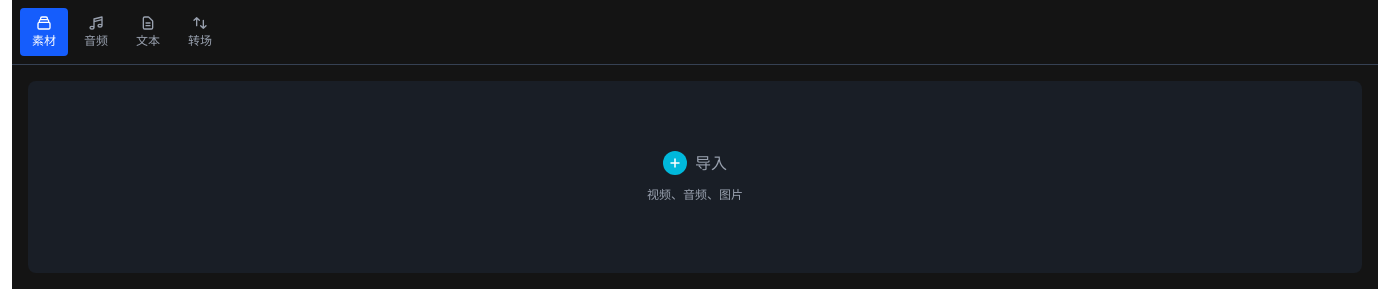
Scenario: MediaLibrary › 6.1.9 测试右键菜单触发 › should open folder context menu on folder right click
Note: Create folder
Right-click the element showing "导入 视频、音频、图片" at (695, 177), box [28,81,1362,273]
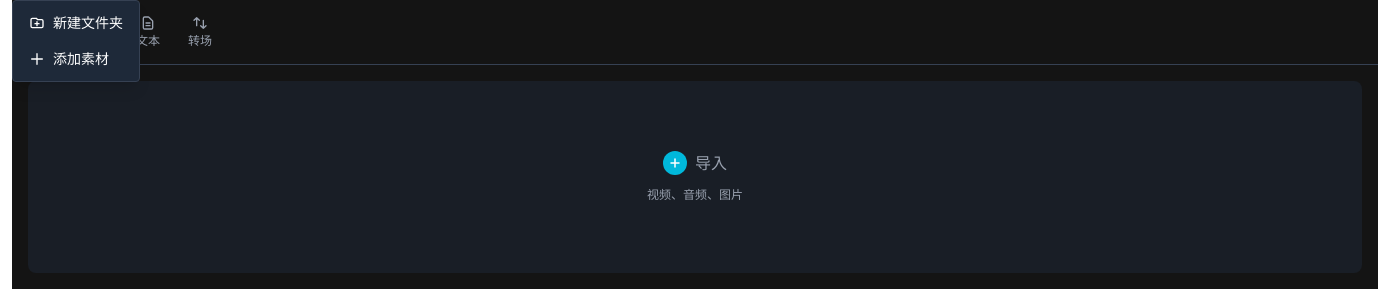
Click the button "新建文件夹" at (76, 23), box [13,5,139,41]
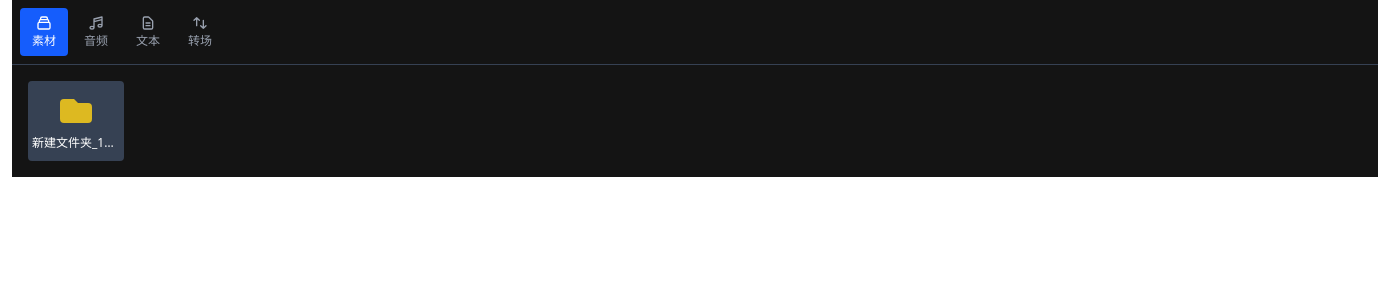
Note: Right-click folder
Right-click the text "新建文件夹_1772621043255" at (76, 121), box [28,81,124,161]
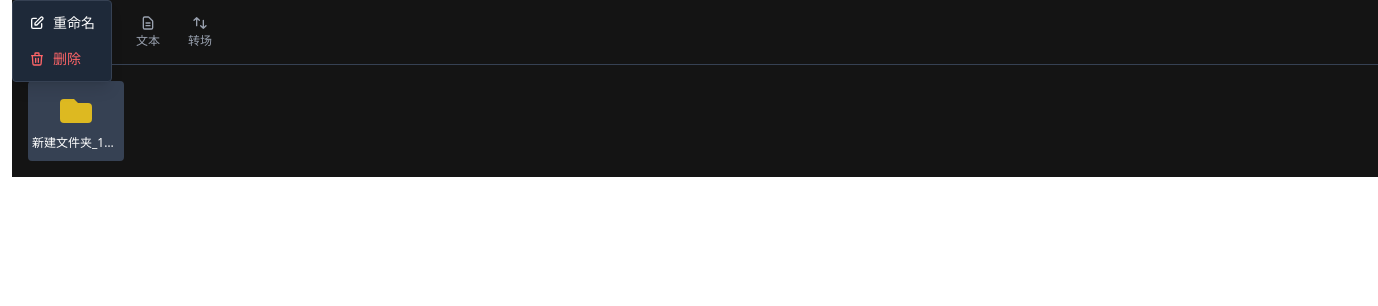
Expected: the button "重命名" is shown, [13,5,111,41]
Expected: the button "删除" is shown, [13,41,111,77]
